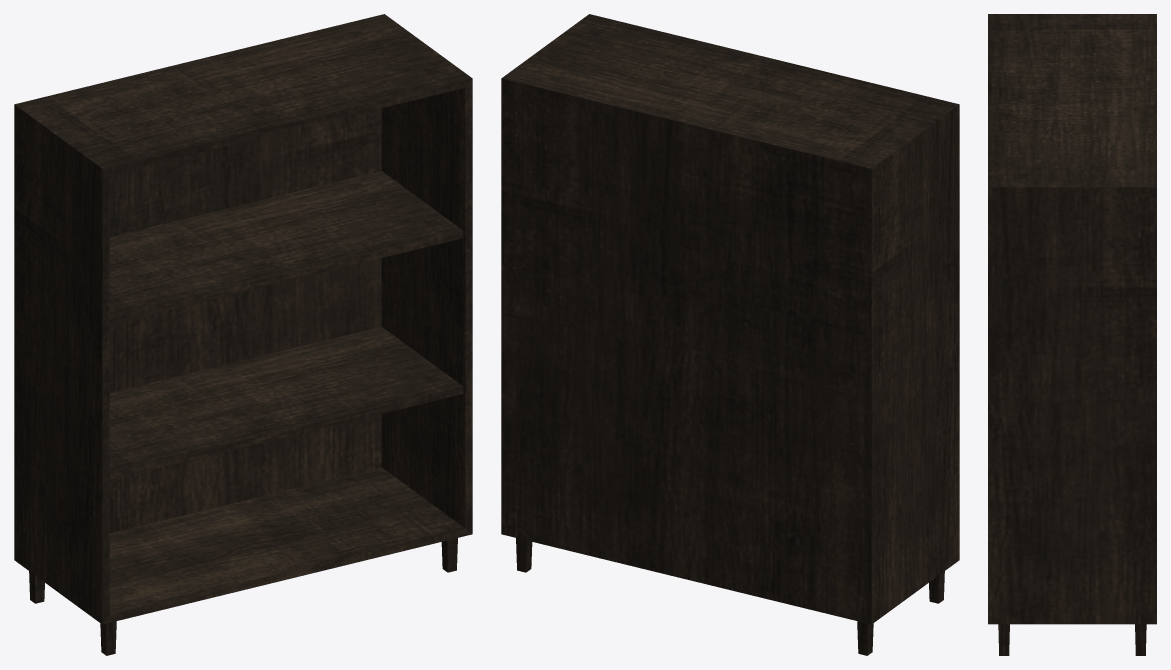
The model's file is shelf_mp_3_2.obj.
3 views of the same model, side by side, from view 1: azimuth 30°, elevation 25°; view 2: azimuth 150°, elevation 25°; view 3: azimuth 270°, elevation 25° (orthographic). The views are drawn at different scales.
Visible parts, largest first — view 1: shelf_mp_3_2; view 2: shelf_mp_3_2; view 3: shelf_mp_3_2.
Part boxes in pixels (box(x1,y1,x2,y2)): shelf_mp_3_2: box(14, 14, 472, 655); shelf_mp_3_2: box(501, 14, 959, 655); shelf_mp_3_2: box(988, 14, 1156, 655).
Size of the model in its own units: 1.02 by 1.3 by 0.42.
